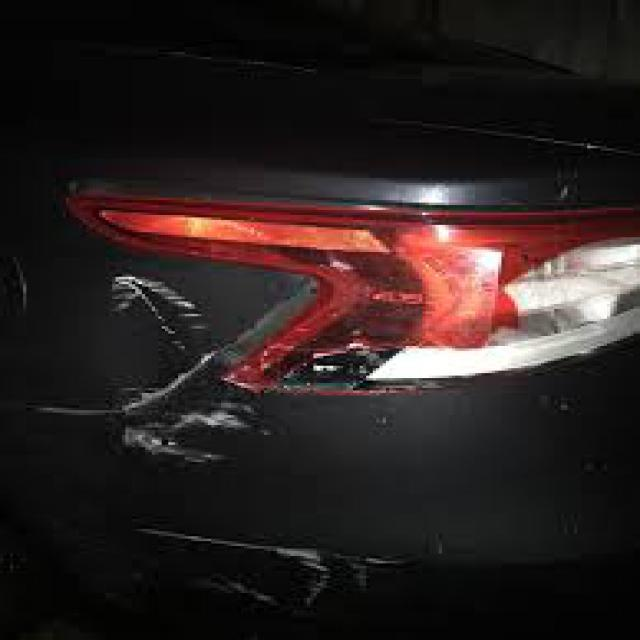Taillight-Damage: (214, 205, 636, 396)
